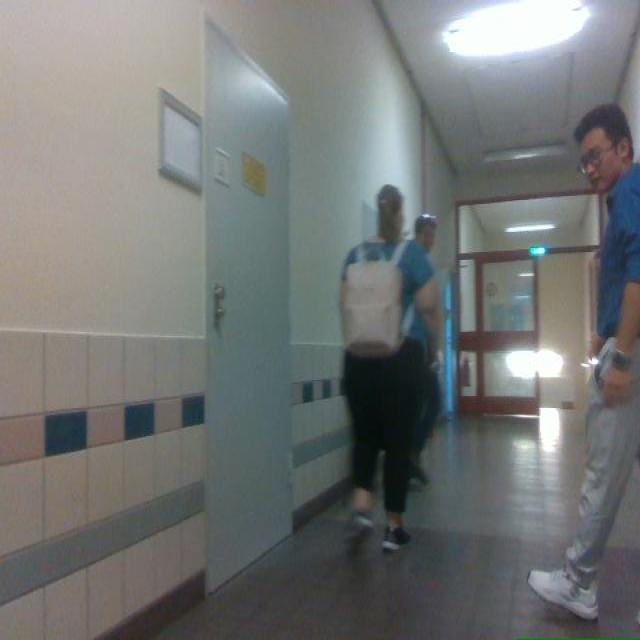humans: (527, 104, 639, 619), (340, 184, 435, 551), (410, 313, 440, 483), (412, 213, 435, 255)
objects: (342, 242, 412, 357)
